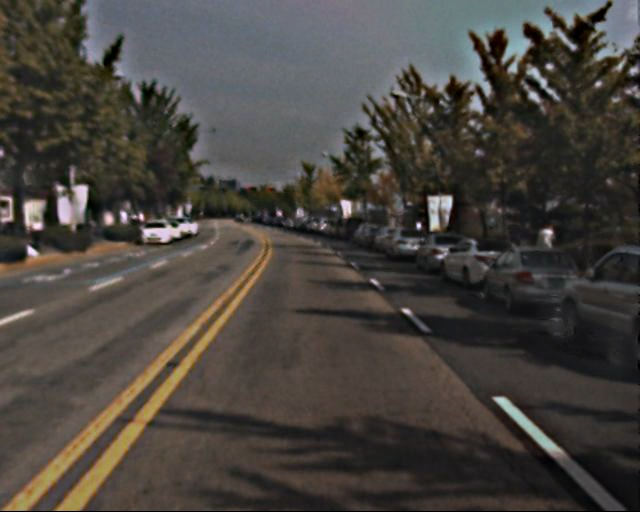person: (532, 221, 553, 272), (512, 222, 532, 271)
